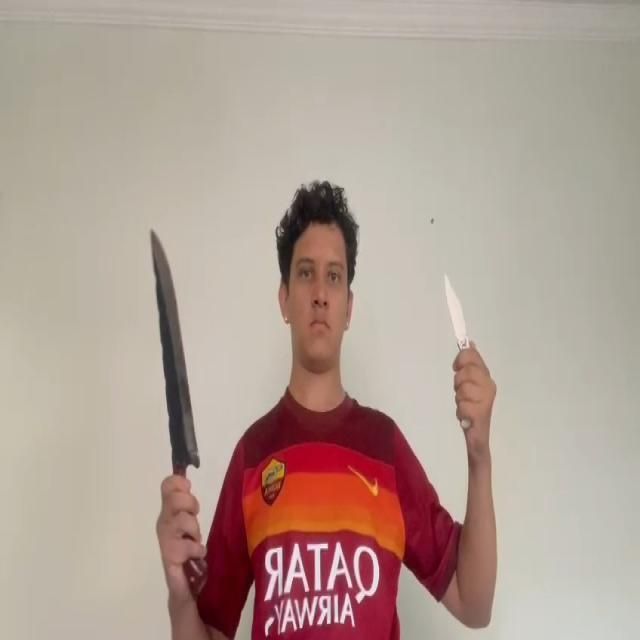knife: (150, 231, 200, 468), (444, 270, 466, 340)
